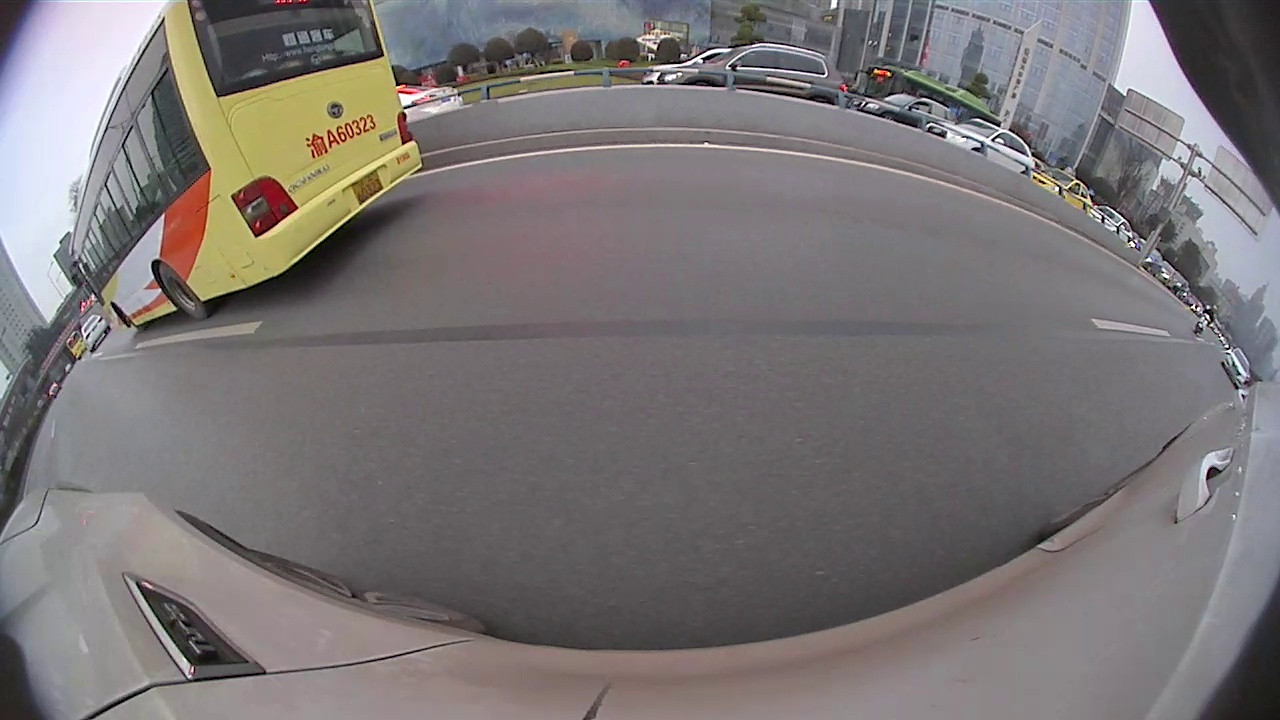bus: (66, 1, 424, 330), (851, 62, 1006, 135)
car: (655, 41, 853, 112), (929, 115, 1035, 177), (857, 89, 948, 134), (1032, 167, 1093, 214), (393, 80, 465, 114), (1093, 206, 1138, 247), (80, 316, 107, 350)
front: (108, 300, 138, 339)
rear: (153, 260, 212, 326)
